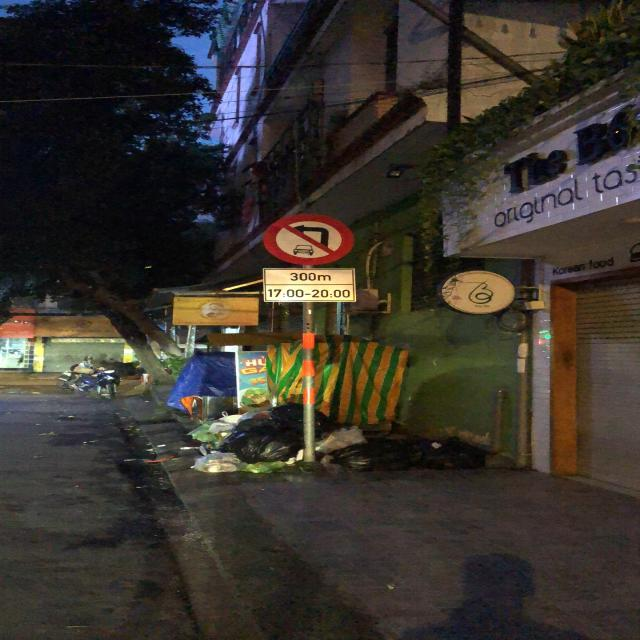Bien bao cam xe o to re trai: (257, 212, 363, 265)
